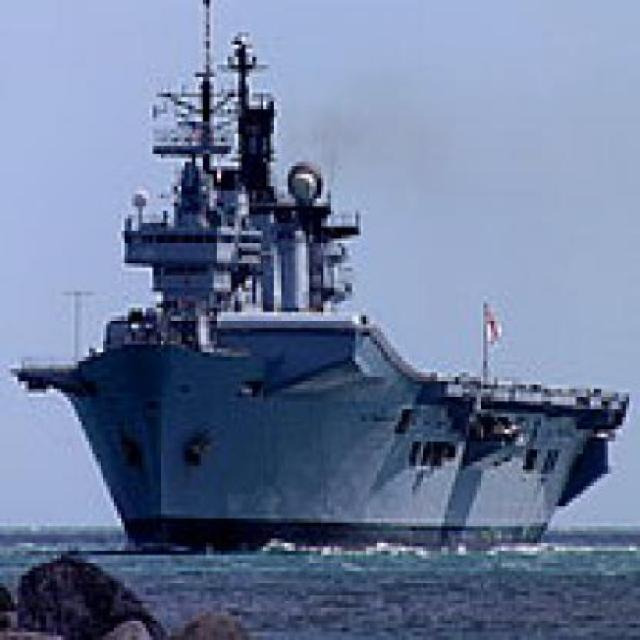warship2: (94, 38, 603, 544)
